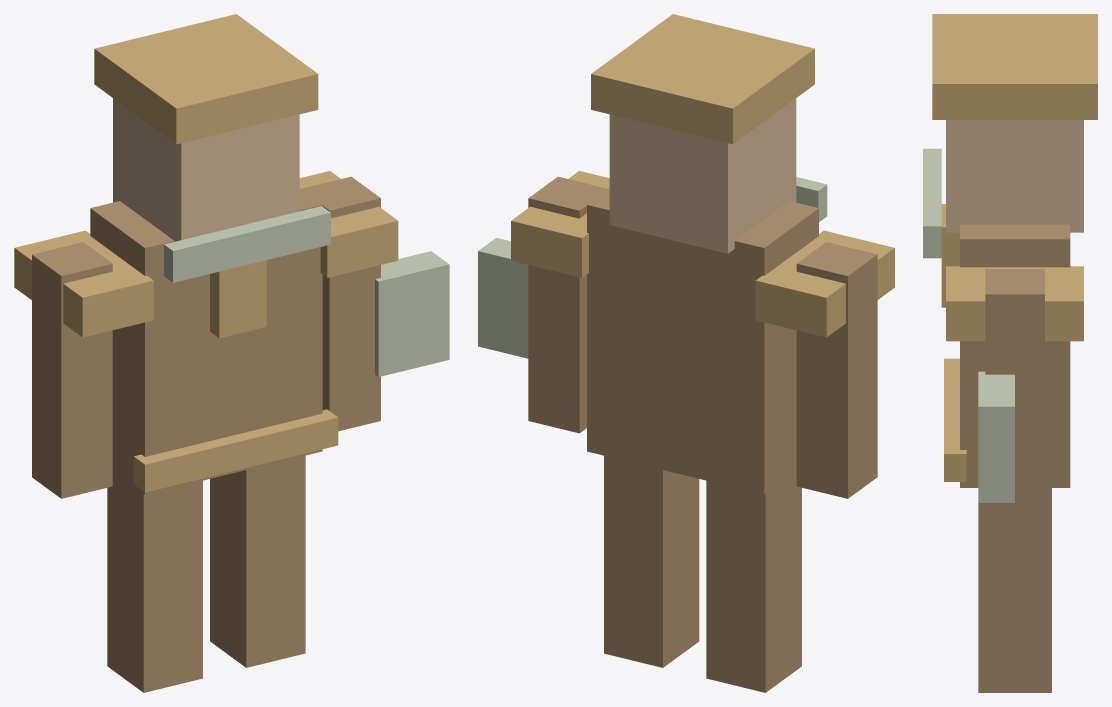
The model's file is 09_draven_runeclasp_runner_near_pyre.glb.
3 renders of one model, left to right at view 1: azimuth 30°, elevation 25°; view 2: azimuth 150°, elevation 25°; view 3: azimuth 270°, elevation 25°, orthographic.
Parts seen in each view (by area): view 1: Draven Runeclasp, Runner near Pyre; view 2: Draven Runeclasp, Runner near Pyre; view 3: Draven Runeclasp, Runner near Pyre.
Part boxes in pixels (left/top/right/bottom): Draven Runeclasp, Runner near Pyre: left=14, top=14, right=449, bottom=692; Draven Runeclasp, Runner near Pyre: left=478, top=14, right=894, bottom=692; Draven Runeclasp, Runner near Pyre: left=923, top=14, right=1097, bottom=692.
Size of the model in its own units: 0.9463 by 1.41 by 0.3688.
